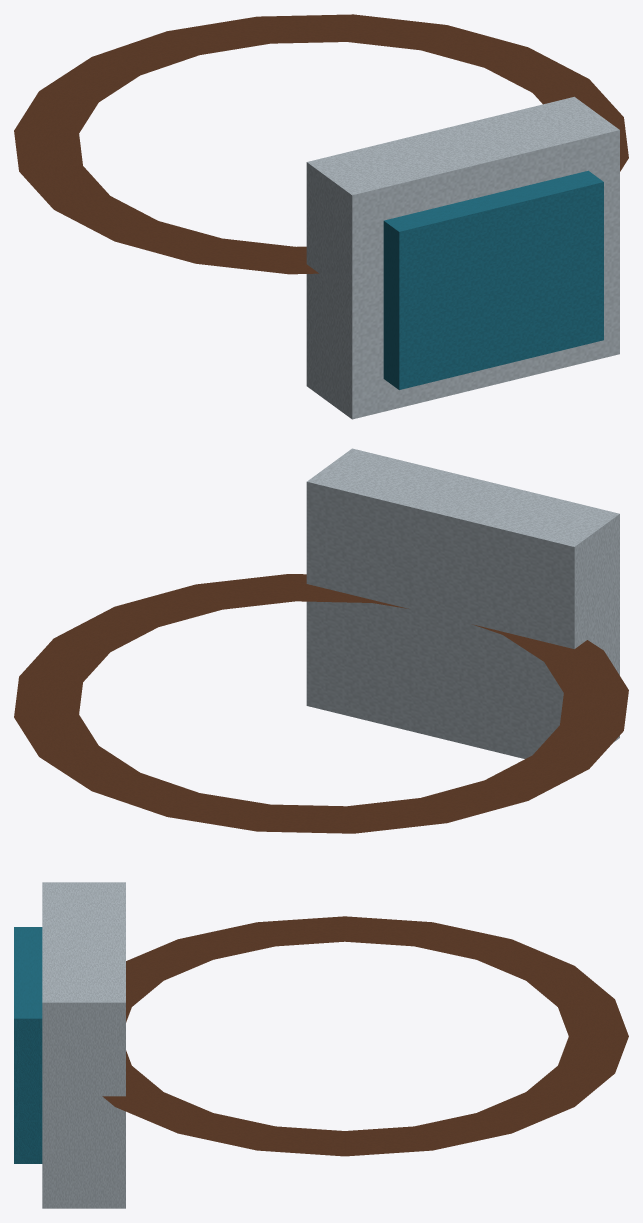
The model's file is reference_smartwatch.gltf.
3 views of the same model, one above another, from view 1: azimuth 30°, elevation 25°; view 2: azimuth 150°, elevation 25°; view 3: azimuth 270°, elevation 25° (orthographic). The views are drawn at different scales.
Parts seen in each view (by area): view 1: Smartwatch; view 2: Smartwatch; view 3: Smartwatch.
Boxes of the visible parts, x1,y1,x2,y2 form: Smartwatch: (14,14,628,419); Smartwatch: (14,448,628,833); Smartwatch: (14,882,628,1208).
Bounding box in the file's own units: 0.17 × 0.068 × 0.184.
3 materials, 3 textured.
